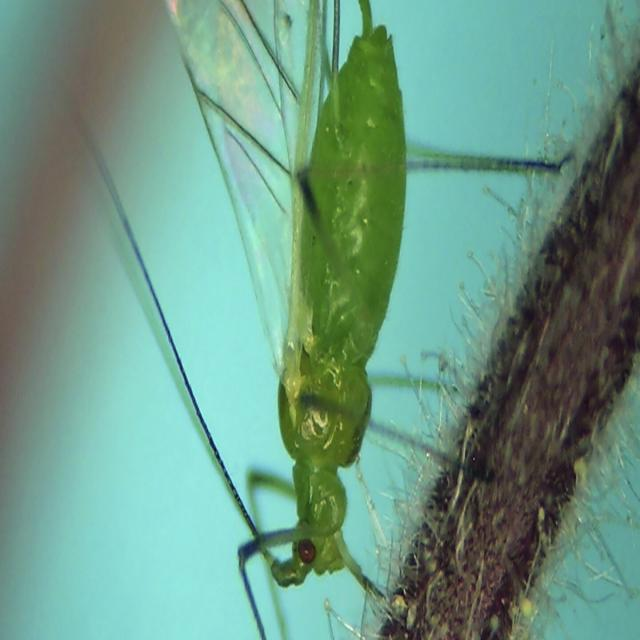Aphid-Grown-: (150, 13, 496, 598)
